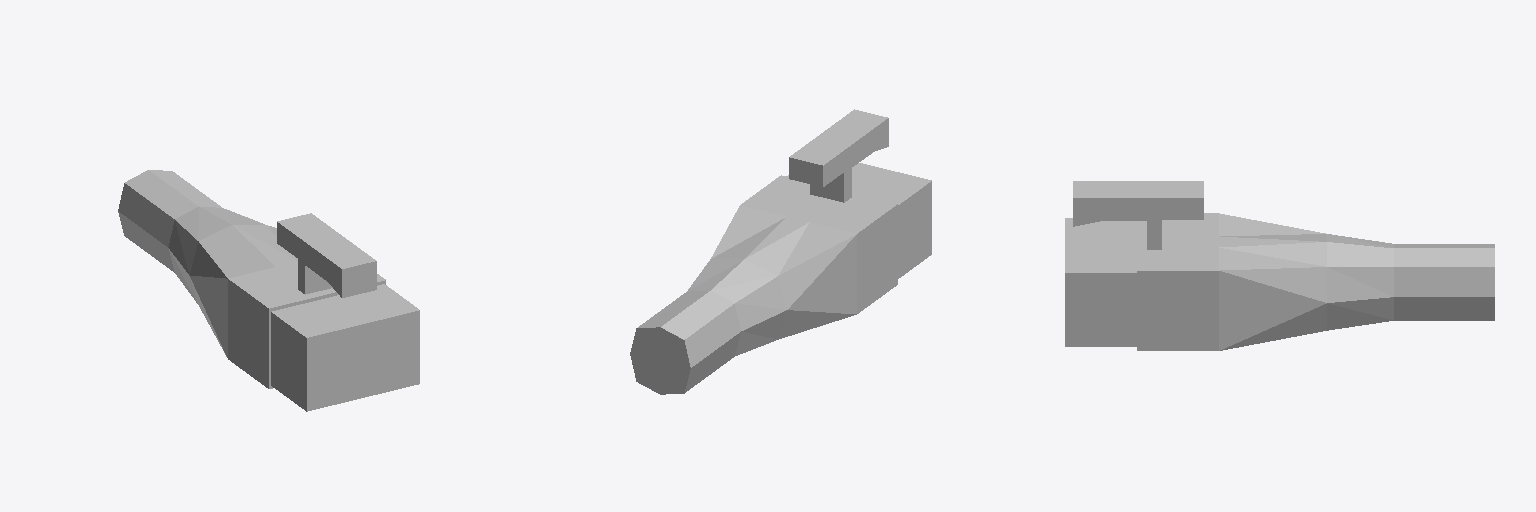
The model's file is 6Pin.obj.
The picture shows the model from 3 angles: view 1: azimuth 30°, elevation 25°; view 2: azimuth 150°, elevation 25°; view 3: azimuth 270°, elevation 25°; orthographic projection.
Visible parts, largest first — view 1: Cube.004; view 2: Cube.004; view 3: Cube.004.
Part boxes in pixels (bbox=[...]): Cube.004: bbox=[118, 170, 419, 411]; Cube.004: bbox=[630, 109, 931, 394]; Cube.004: bbox=[1065, 181, 1494, 350].
Size of the model in its own units: 0.1307 by 0.1419 by 0.4153.